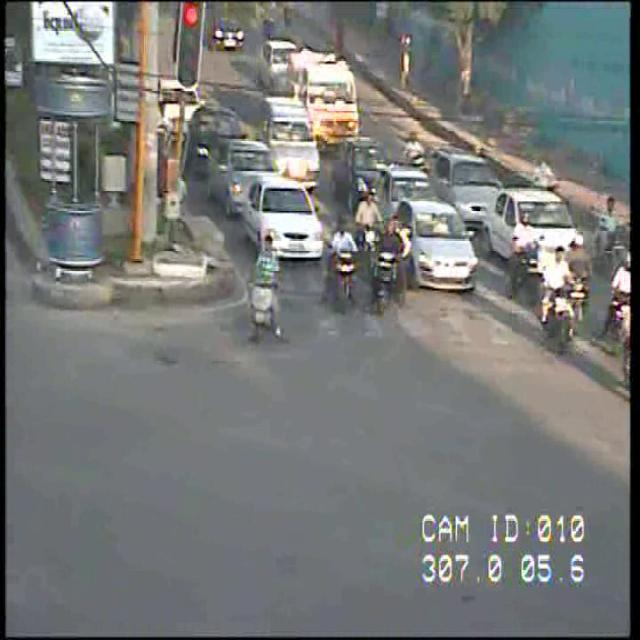noaccident: (199, 27, 625, 446)
